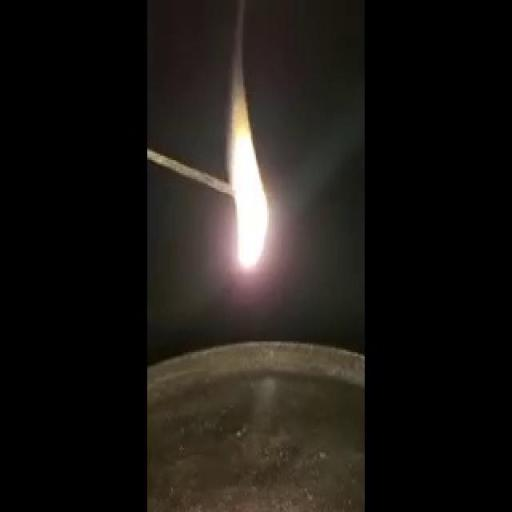smoke: (224, 98, 282, 284)
